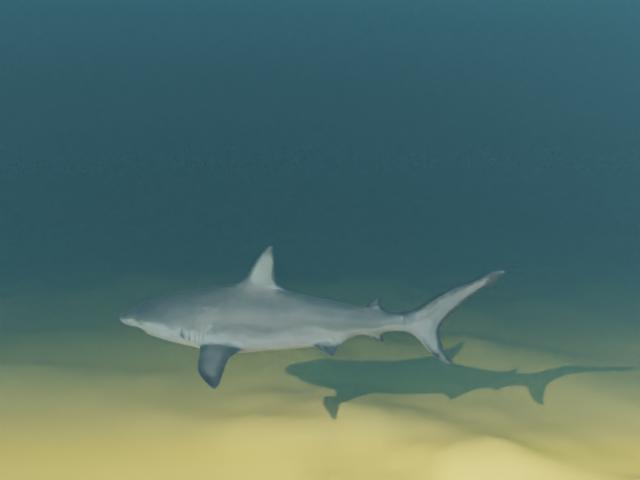Carribean Shark.001: (119, 245, 505, 388)
